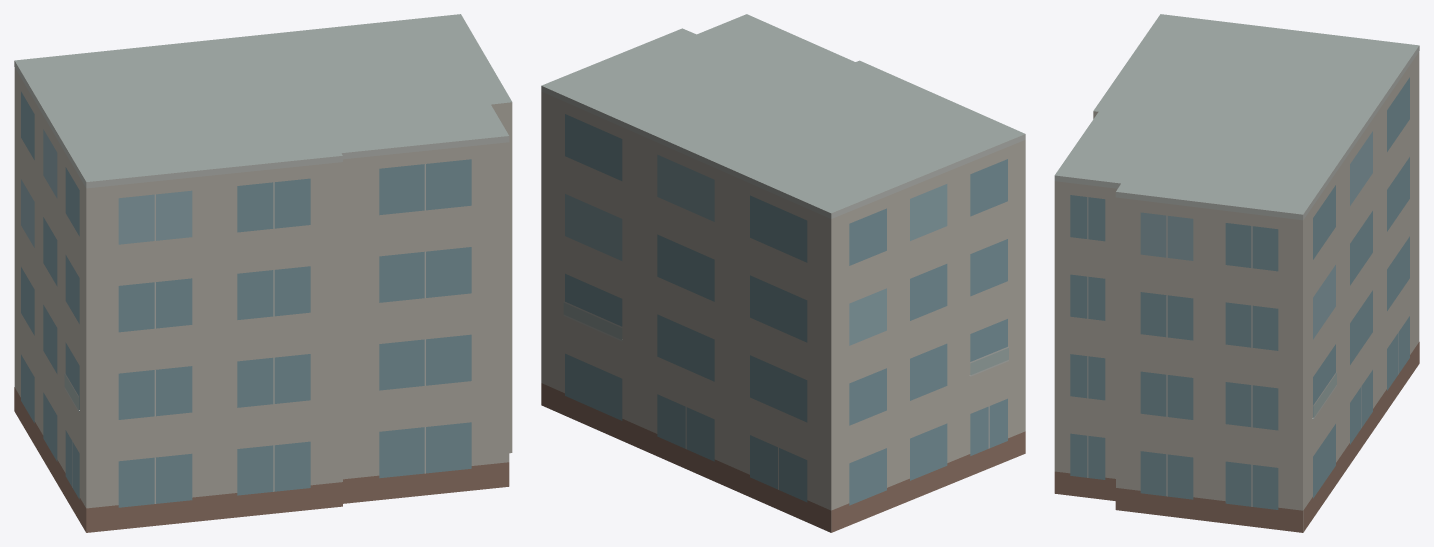
File: survey-upis-32597302.glb
The picture shows the model from 3 angles, left to right: view 1: azimuth 30°, elevation 25°; view 2: azimuth 150°, elevation 25°; view 3: azimuth 270°, elevation 25°; orthographic projection. The views are drawn at different scales.
Visible parts, largest first — view 1: survey-upis-32597302.tmp; view 2: survey-upis-32597302.tmp; view 3: survey-upis-32597302.tmp.
Boxes of the visible parts, box(x1,y1,x2,y2) form: survey-upis-32597302.tmp: box(14, 14, 512, 532); survey-upis-32597302.tmp: box(541, 14, 1025, 532); survey-upis-32597302.tmp: box(1054, 14, 1419, 532).
Bounding box in the file's own units: 18.54 × 13.7 × 14.25.
